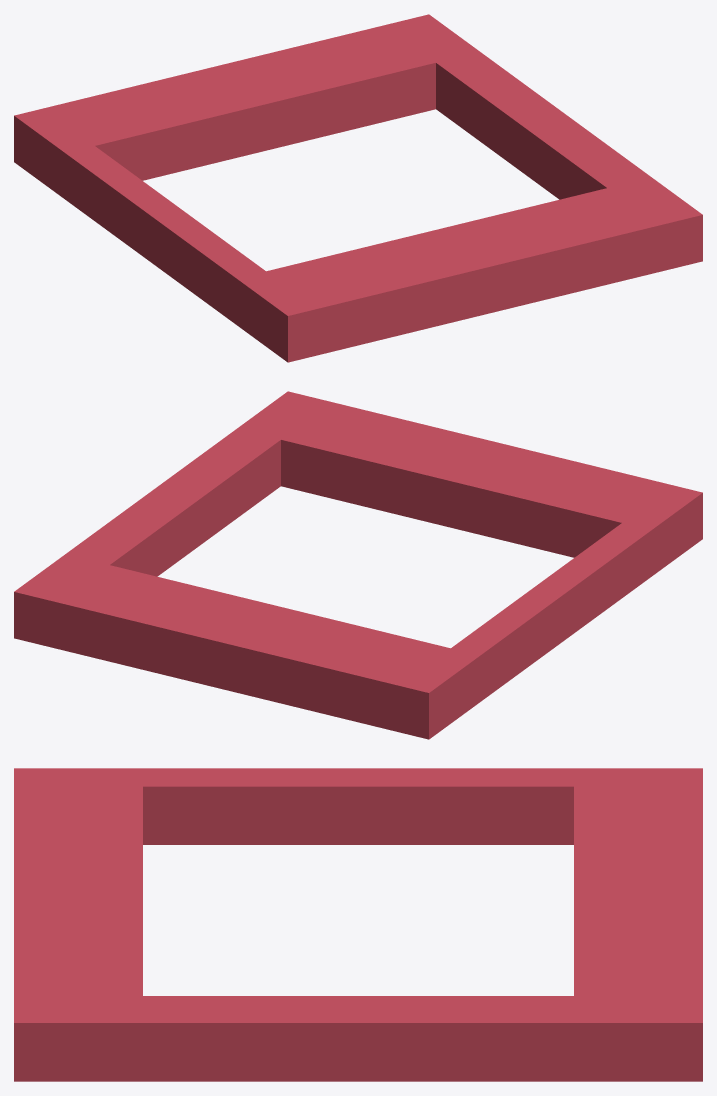
The model's file is forat_rectangle.glb.
3 views of the same model, one above another, from view 1: azimuth 30°, elevation 25°; view 2: azimuth 150°, elevation 25°; view 3: azimuth 270°, elevation 25° (orthographic). The views are drawn at different scales.
Parts seen in each view (by area): view 1: Mesh_Mesh_head_geo.001_lambert2SG.001; view 2: Mesh_Mesh_head_geo.001_lambert2SG.001; view 3: Mesh_Mesh_head_geo.001_lambert2SG.001.
Part boxes in pixels (<box>): Mesh_Mesh_head_geo.001_lambert2SG.001: <box>14,14,702,362</box>; Mesh_Mesh_head_geo.001_lambert2SG.001: <box>14,391,702,739</box>; Mesh_Mesh_head_geo.001_lambert2SG.001: <box>14,768,702,1081</box>.
Size of the model in its own units: 28 by 3 by 32.
